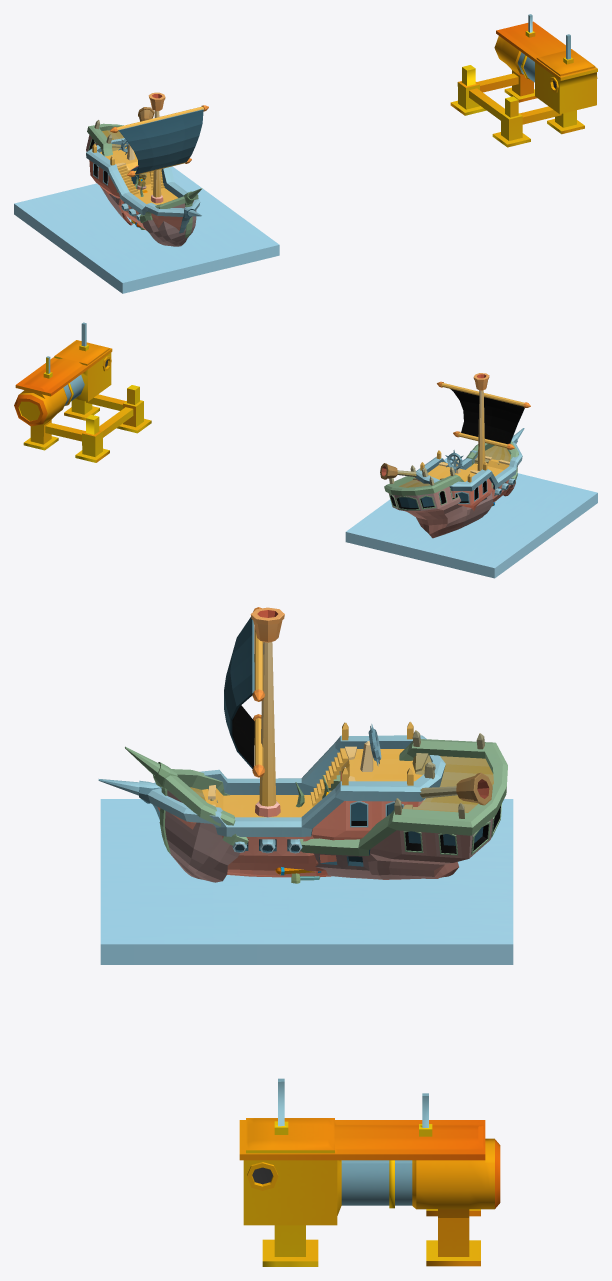
File: long_plant.glb
The picture shows the model from 3 angles, top to bottom: view 1: azimuth 30°, elevation 25°; view 2: azimuth 150°, elevation 25°; view 3: azimuth 270°, elevation 25°; orthographic projection. The views are drawn at different scales.
Parts seen in each view (by area): view 1: Plane, underwater_base_WIP, pirate_Ship, crashed_ship; view 2: Plane, underwater_base_WIP, pirate_Ship, crashed_ship; view 3: Plane, underwater_base_WIP, pirate_Ship, crashed_ship.
Boxes of the visible parts, x1,y1,x2,y2 form: Plane: (14,166,279,293); underwater_base_WIP: (450,14,597,147); pirate_Ship: (86,92,208,233); crashed_ship: (86,107,202,246); Plane: (345,457,597,578); underwater_base_WIP: (14,322,151,462); pirate_Ship: (415,373,530,511); crashed_ship: (380,441,518,538); Plane: (100,799,513,964); underwater_base_WIP: (239,1078,500,1266); pirate_Ship: (98,607,445,877); crashed_ship: (125,730,507,882).
Bounding box in the file's own units: 84.07 × 22.92 × 30.98.
Materials: 1 (1 with a texture image).
